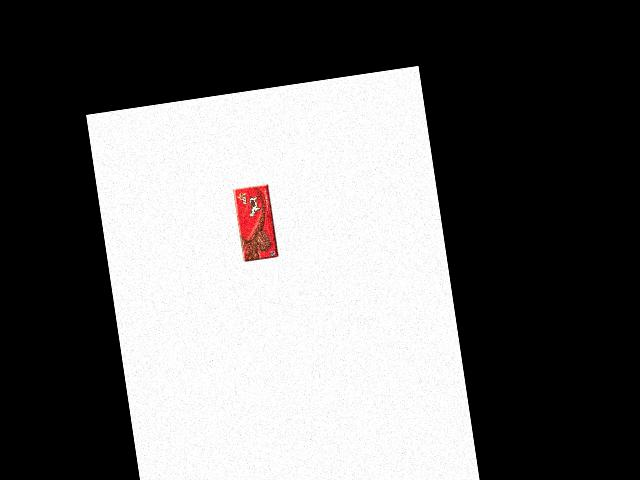chocolate: (231, 180, 282, 264)
